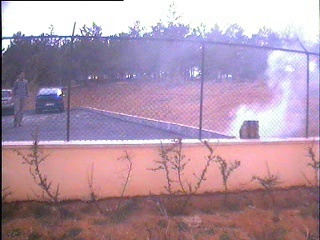smoke: (225, 35, 315, 139)
